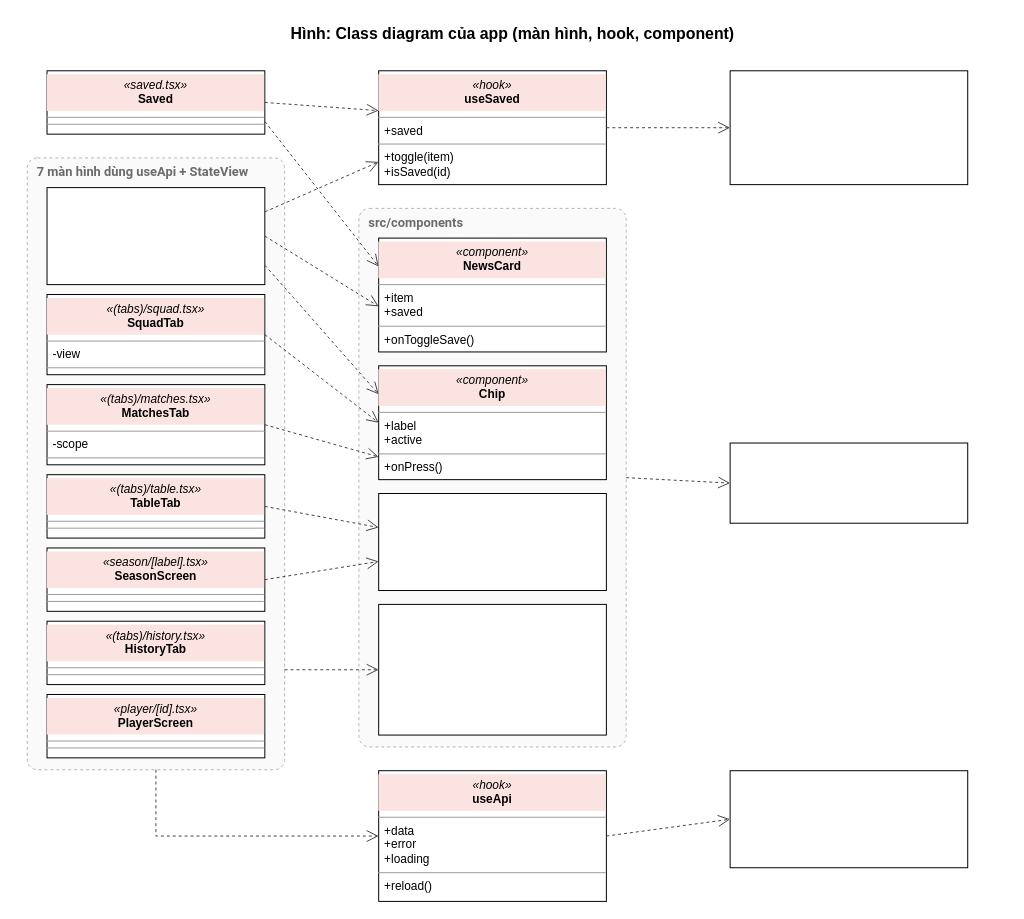
The diagram is 1024 pixels wide and 919 high, and some of its shapes have lost their labels. The shapes that lost their labels are listed below. From the top down, each one's centre as x and y in pixels, then its label:
(848,127): «thư viện» AsyncStorage khóa "saved-news" +getItem() +setItem()
(155,236): «(tabs)/index.tsx» NewsTab -type -query
(848,482): «theme.ts» useColors Palette sáng / tối
(492,542): «component» LeagueTable +rows +scroll
(492,669): «component» StateView +loading +error +empty +onRetry()
(848,819): «api/client.ts» client BASE = EXPO_PUBLIC_API_URL +get<T>(path)
